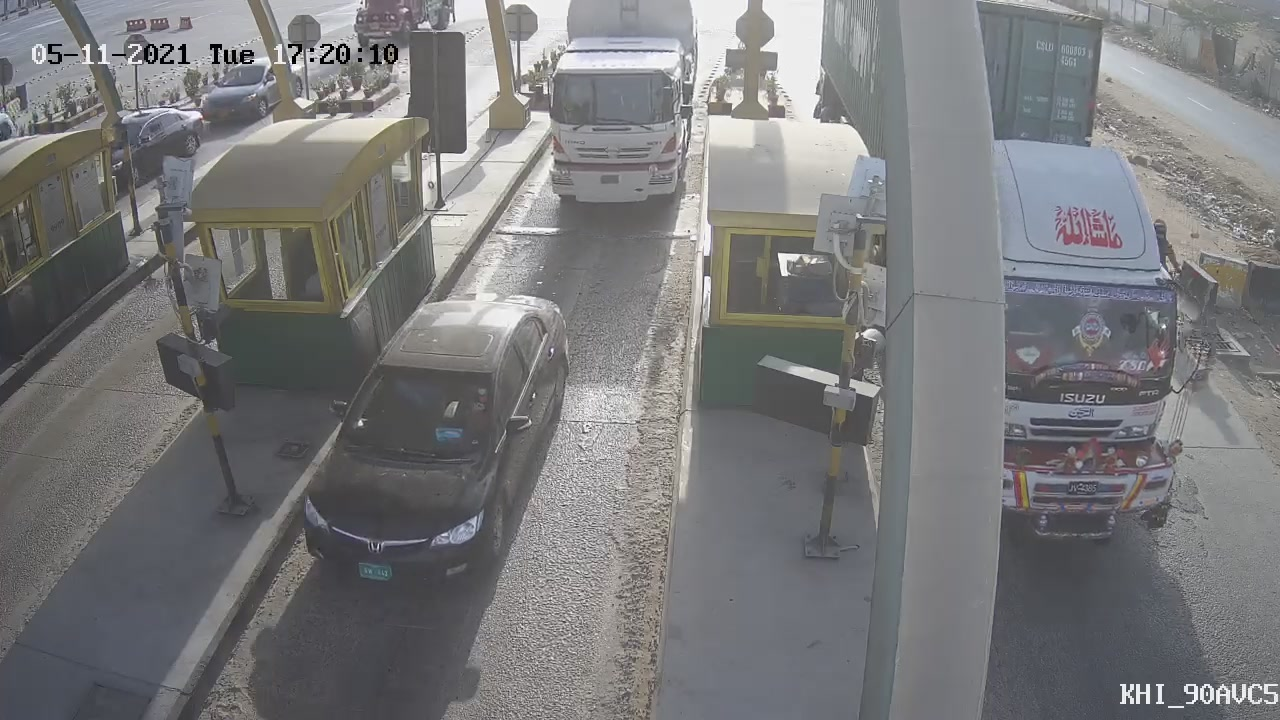F1: (255, 275, 599, 613)
